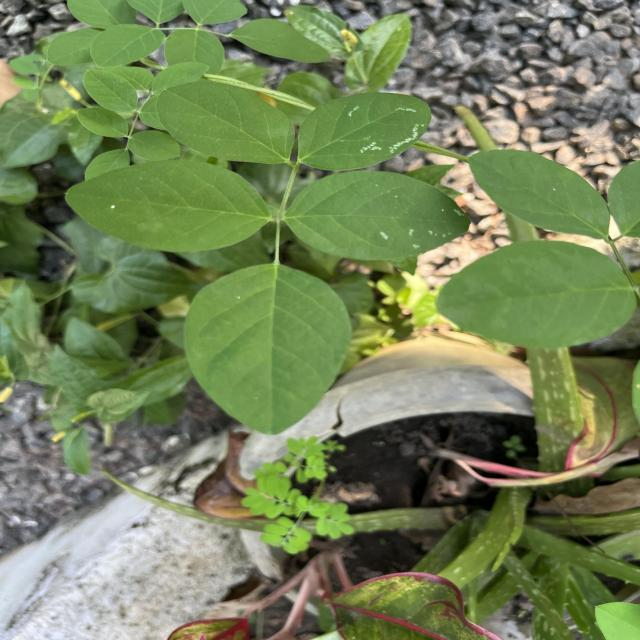Clitoria ternatea: (182, 262, 354, 436), (64, 158, 273, 254), (283, 169, 473, 262), (156, 80, 296, 166), (297, 91, 433, 171)
